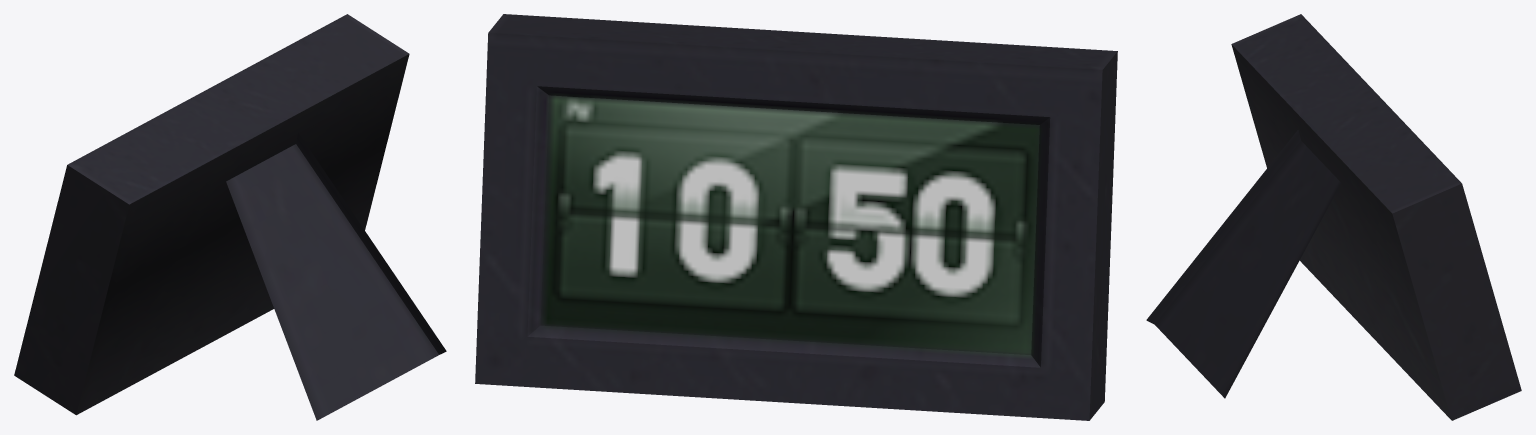
The model's file is ZhiBanShi_01_naozhong_01.FBX.
3 renders of one model, left to right at view 1: azimuth 30°, elevation 25°; view 2: azimuth 150°, elevation 25°; view 3: azimuth 270°, elevation 25°, orthographic. The views are drawn at different scales.
Parts seen in each view (by area): view 1: ZhiBanShi_shizhongi_01; view 2: ZhiBanShi_shizhongi_01; view 3: ZhiBanShi_shizhongi_01.
Boxes of the visible parts, box(x1,y1,x2,y2) form: ZhiBanShi_shizhongi_01: box(14, 14, 446, 420); ZhiBanShi_shizhongi_01: box(475, 14, 1117, 420); ZhiBanShi_shizhongi_01: box(1146, 14, 1521, 420).
Size of the model in its own units: 87.69 by 50.34 by 72.71.
